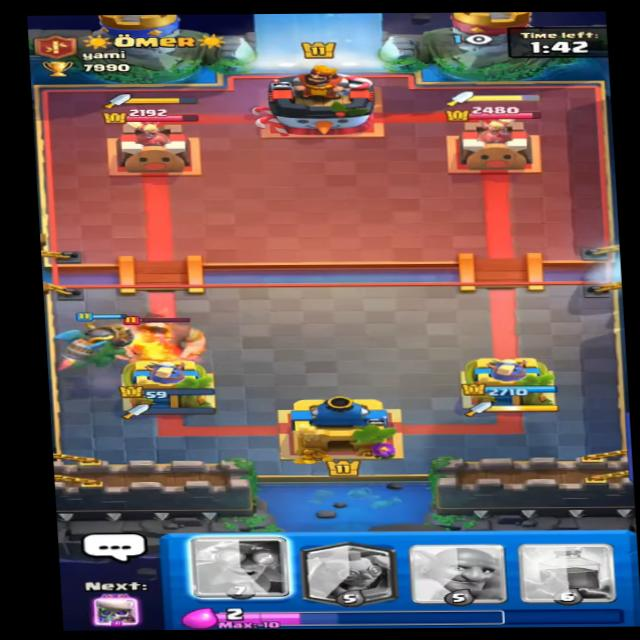giant: (100, 311, 225, 372)
